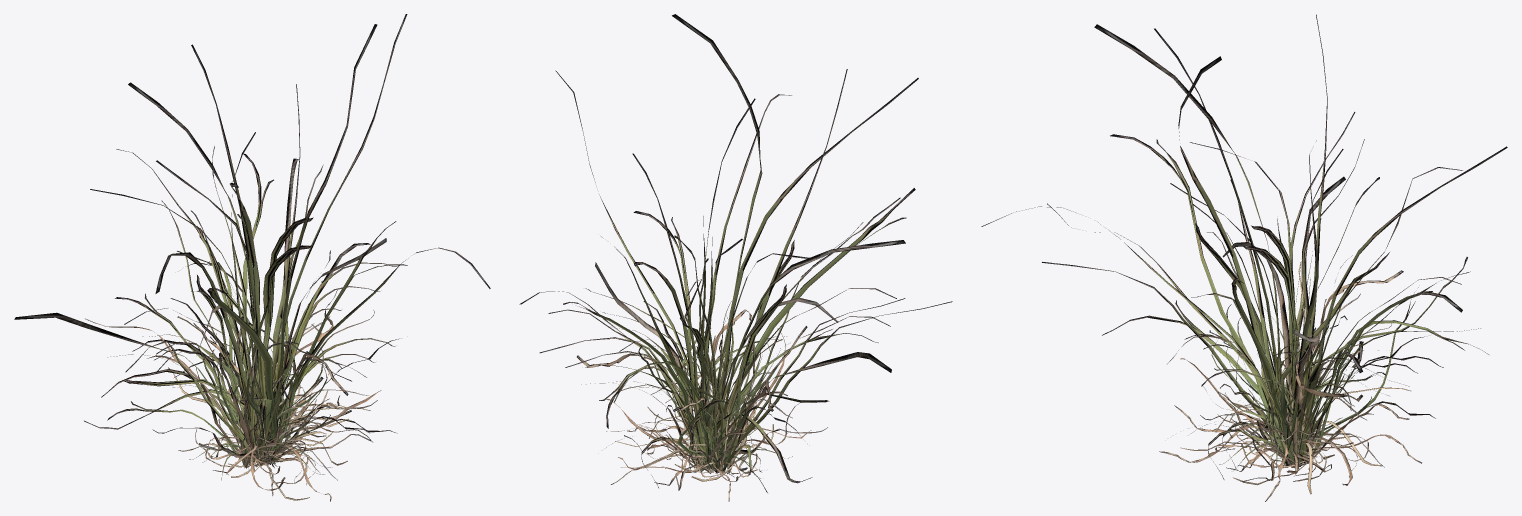
File: grass-shurbs.glb
The picture shows the model from 3 angles, left to right: view 1: azimuth 30°, elevation 25°; view 2: azimuth 150°, elevation 25°; view 3: azimuth 270°, elevation 25°; orthographic projection. The views are drawn at different scales.
Visible parts, largest first — view 1: a; view 2: a; view 3: a.
Part boxes in pixels (<box>): a: <box>14,14,490,501</box>; a: <box>519,14,952,501</box>; a: <box>981,14,1507,501</box>.
Bounding box in the file's own units: 0.3556 × 0.4053 × 0.4332.
Materials: 1 (1 with a texture image).
